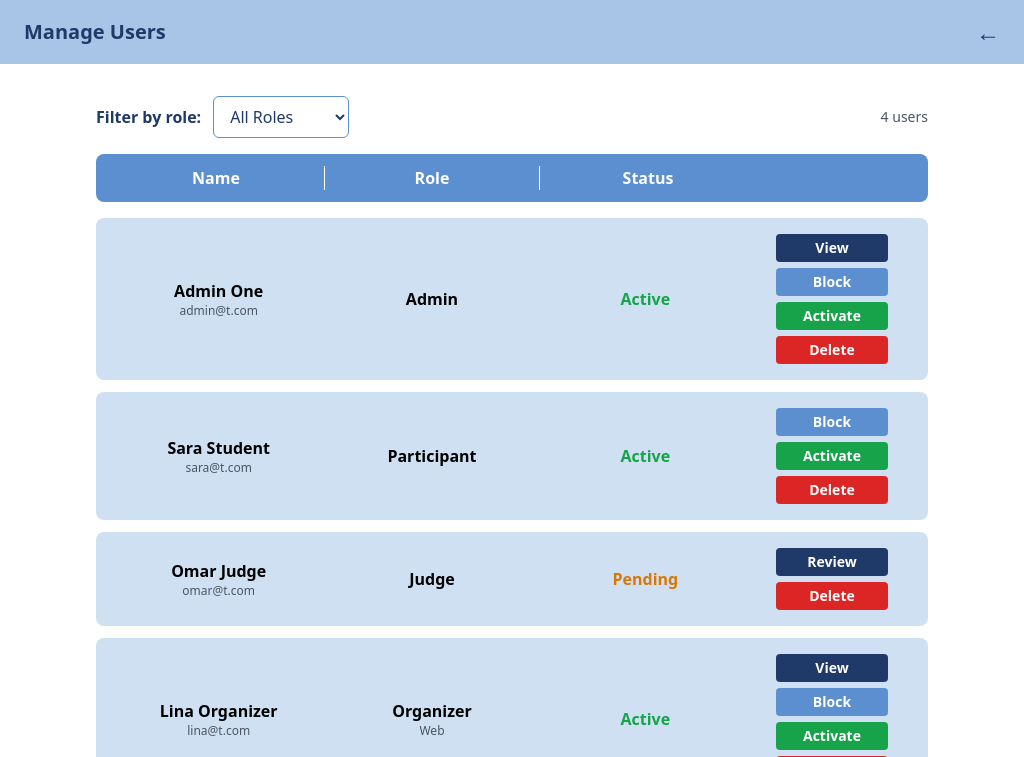
Test: Admin: approve / reject registrations › rejecting sends the reason and the user becomes Rejected
Expected: the text "Omar Judge" is shown, [171,560,266,582]
Click the button "Review".
click(832, 562)  # box [776,548,888,576]
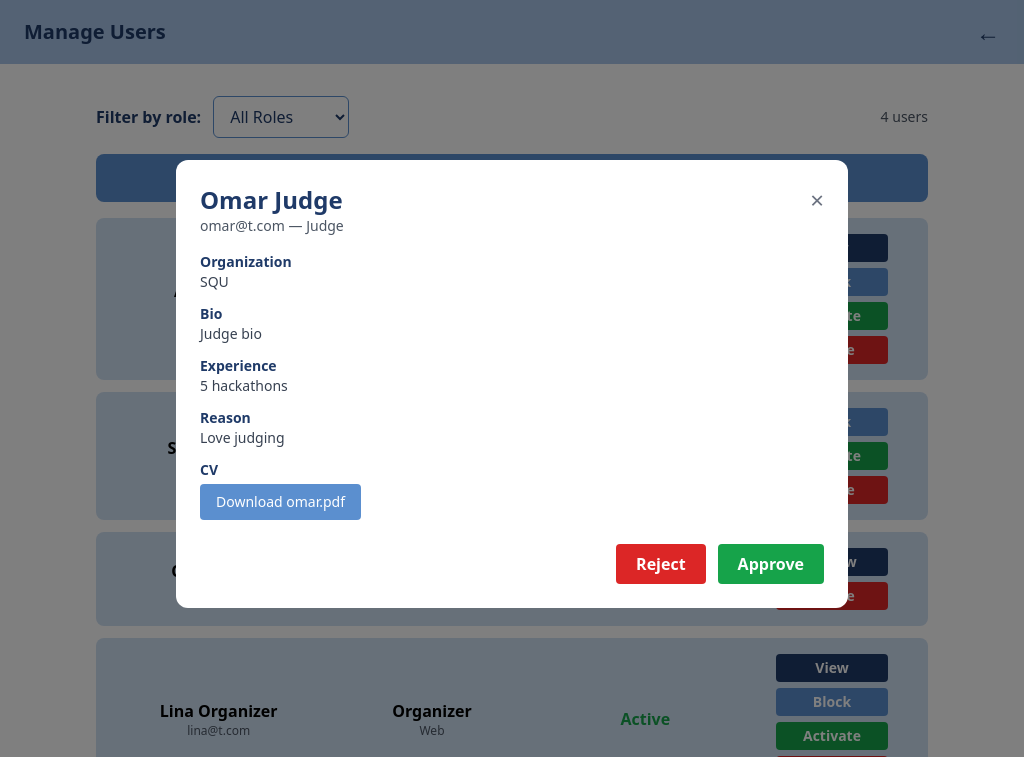
Click the button "Reject".
click(661, 564)  # box [616,544,706,584]
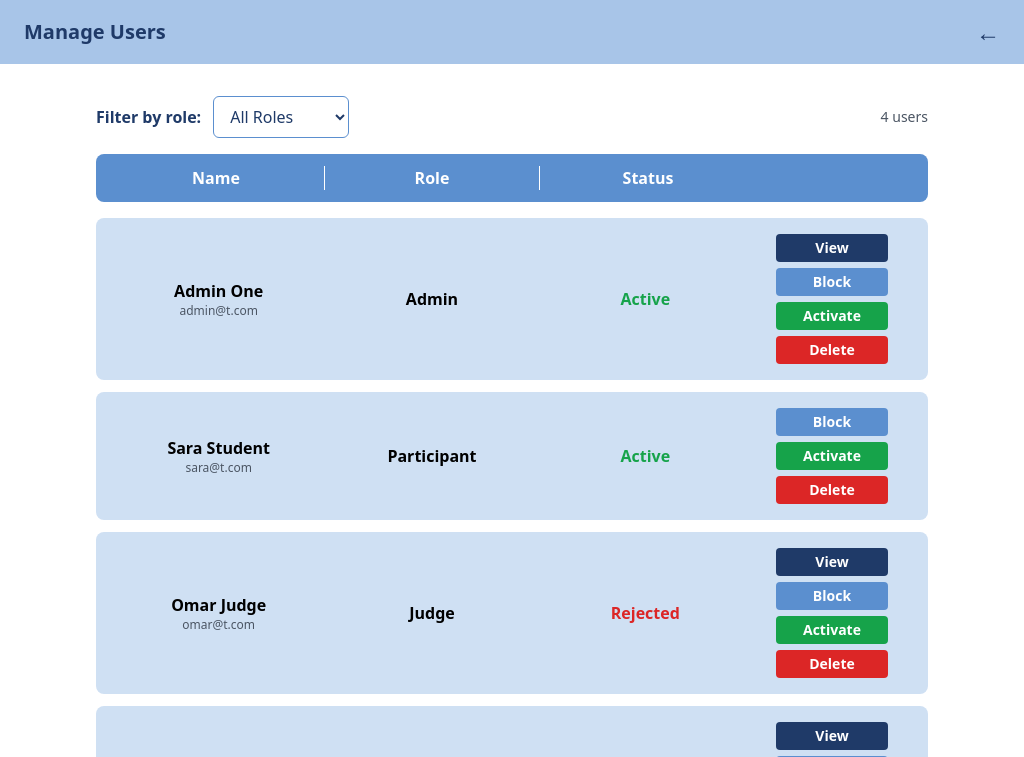
Now the text "Rejected" is shown, box [611,602,680,624]
